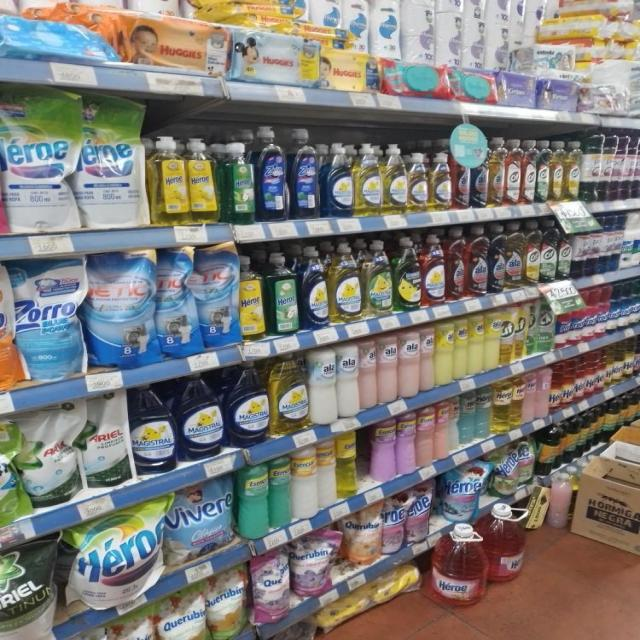ala_conc_amarillo: (506, 222, 524, 289), (488, 137, 504, 207)
ala_conc_azul: (471, 143, 488, 209), (489, 223, 505, 293)
ala_conc_rojo: (467, 226, 488, 297), (446, 227, 466, 300), (452, 148, 470, 210)
ala_crem_amarillo: (435, 321, 452, 386), (468, 314, 484, 376), (485, 309, 501, 371), (454, 317, 467, 380)
ala_crem_blanco: (309, 347, 336, 425), (337, 342, 358, 418)
ala_crem_rosado: (378, 333, 398, 404), (399, 329, 419, 398), (359, 338, 377, 410), (420, 325, 434, 392)
cif_conc_bot_amarilla: (524, 221, 540, 285), (565, 139, 580, 202), (550, 140, 564, 202)
cif_conc_botella_roja: (506, 138, 522, 206), (522, 139, 537, 205)
cif_conc_botella_verde: (540, 219, 556, 283), (558, 218, 572, 280), (537, 139, 550, 203)
cif_conc_sachet_amarillo: (501, 306, 514, 365), (515, 303, 525, 361)
cif_conc_sachet_verde: (538, 298, 554, 354), (526, 300, 536, 358)
heroe: (492, 378, 510, 434), (511, 375, 523, 428), (524, 372, 536, 422)
magistral_con_amarillo: (271, 353, 308, 435), (329, 241, 362, 323), (363, 239, 392, 317), (354, 142, 382, 216), (382, 143, 407, 214), (407, 151, 429, 213), (430, 151, 451, 212)
magistral_con_azul: (178, 371, 224, 461), (131, 382, 175, 474), (226, 360, 268, 447), (300, 245, 328, 330), (323, 142, 352, 218)
magistral_con_rojo: (422, 232, 445, 306)
zorro: (289, 126, 319, 220)
